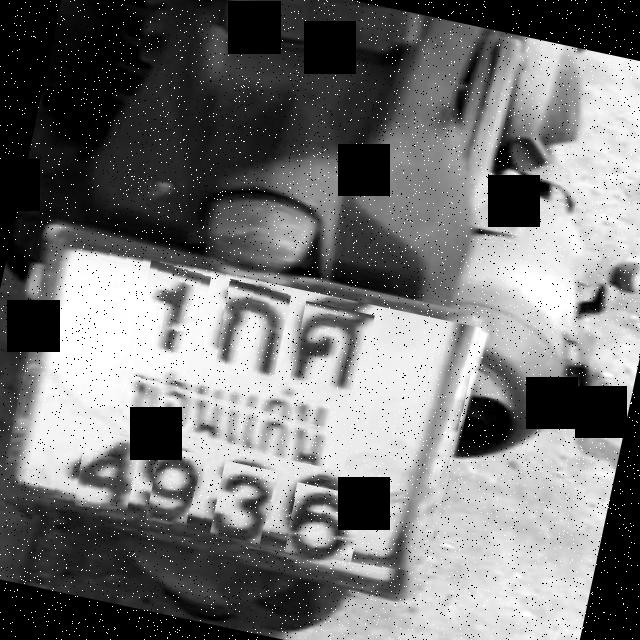letters: (130, 260, 212, 370), (288, 300, 375, 400), (210, 278, 291, 384), (282, 482, 364, 566), (70, 428, 142, 516), (209, 461, 277, 546), (144, 446, 203, 530)
license-plate: (0, 237, 481, 576)
province: (120, 376, 353, 472)
